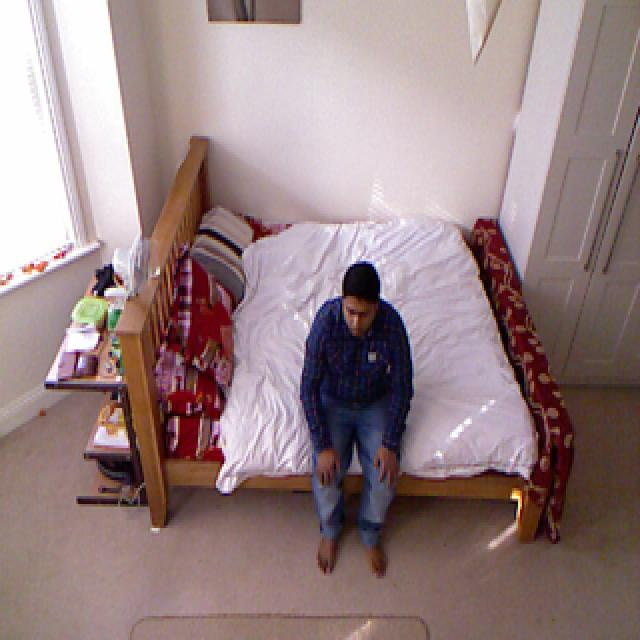sitting: (292, 267, 418, 576)
